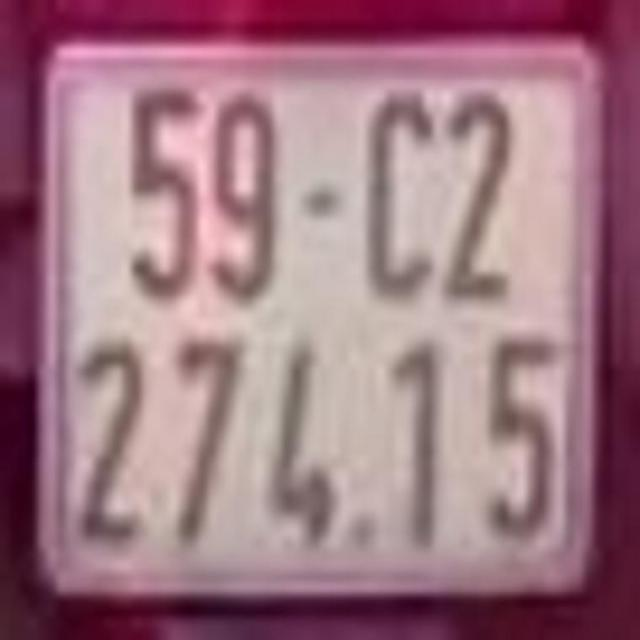1: (392, 338, 443, 551)
2: (75, 338, 149, 543), (446, 90, 510, 303)
4: (276, 335, 343, 540)
5: (129, 79, 204, 299), (488, 341, 561, 548)
7: (174, 337, 246, 554)
9: (215, 96, 277, 298)
C: (365, 86, 436, 302)
